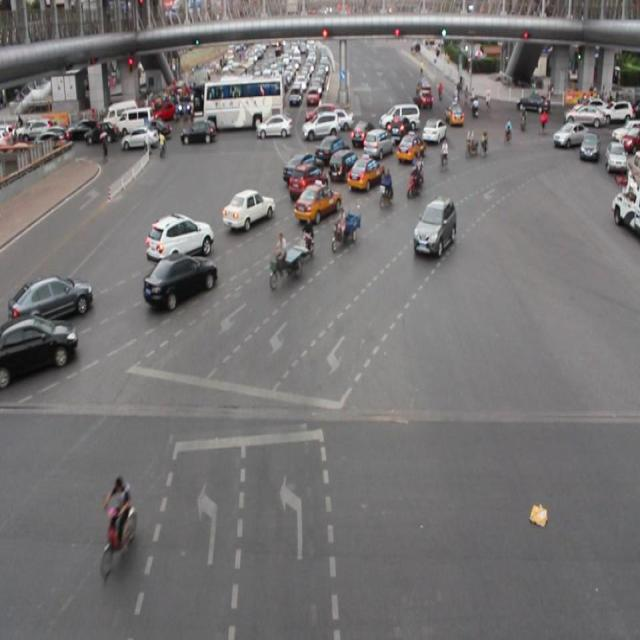car: (1, 318, 76, 378), (8, 274, 93, 320), (144, 252, 217, 304), (145, 214, 214, 261), (412, 195, 457, 255), (221, 188, 274, 229), (293, 182, 340, 221), (289, 164, 328, 200), (284, 150, 323, 183), (347, 156, 382, 189), (361, 126, 392, 158), (314, 134, 348, 163), (395, 132, 424, 163), (327, 150, 357, 179)
